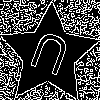U: (24, 29, 73, 85)
